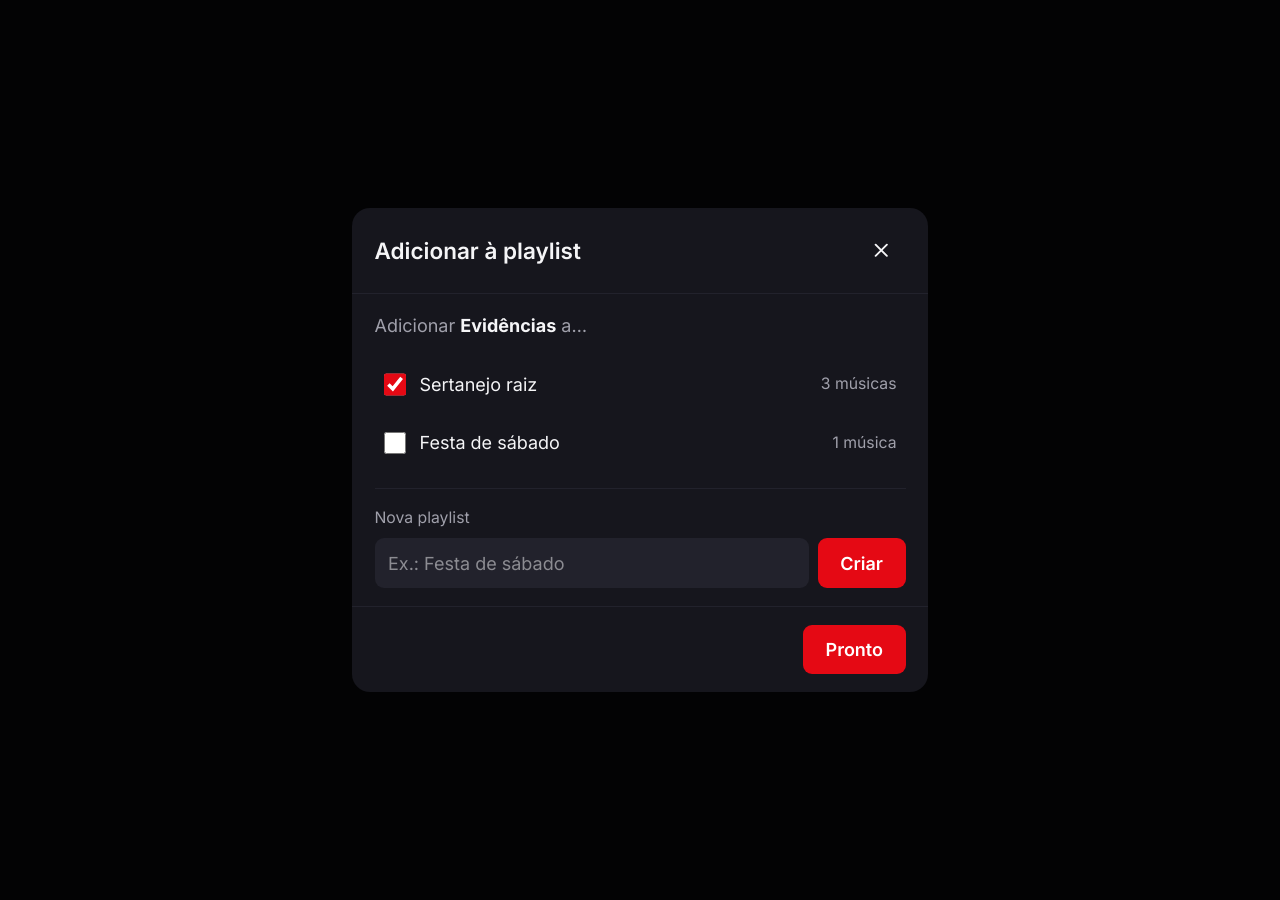
Test: PlaylistPicker › explains when the name is already used and adds nothing
Expected: the checkbox labelled "Sertanejo raiz 3 músicas" is shown, [384,373,406,396]
In the field labelled "Nova playlist": [592, 563] box [374,538,809,588], type "Festa de sábado"
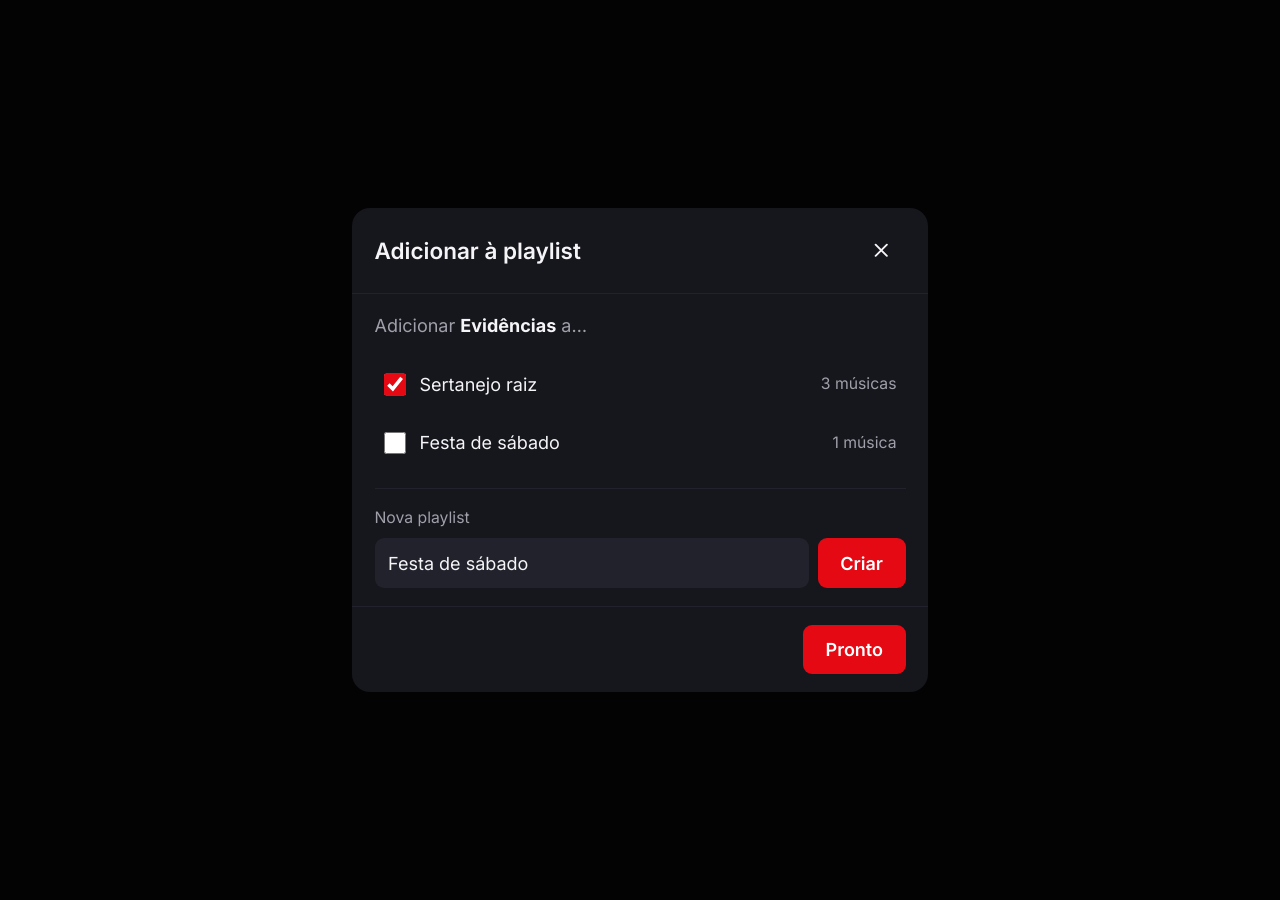
Click the button "Criar": [862, 563] box [818,538,906,588]
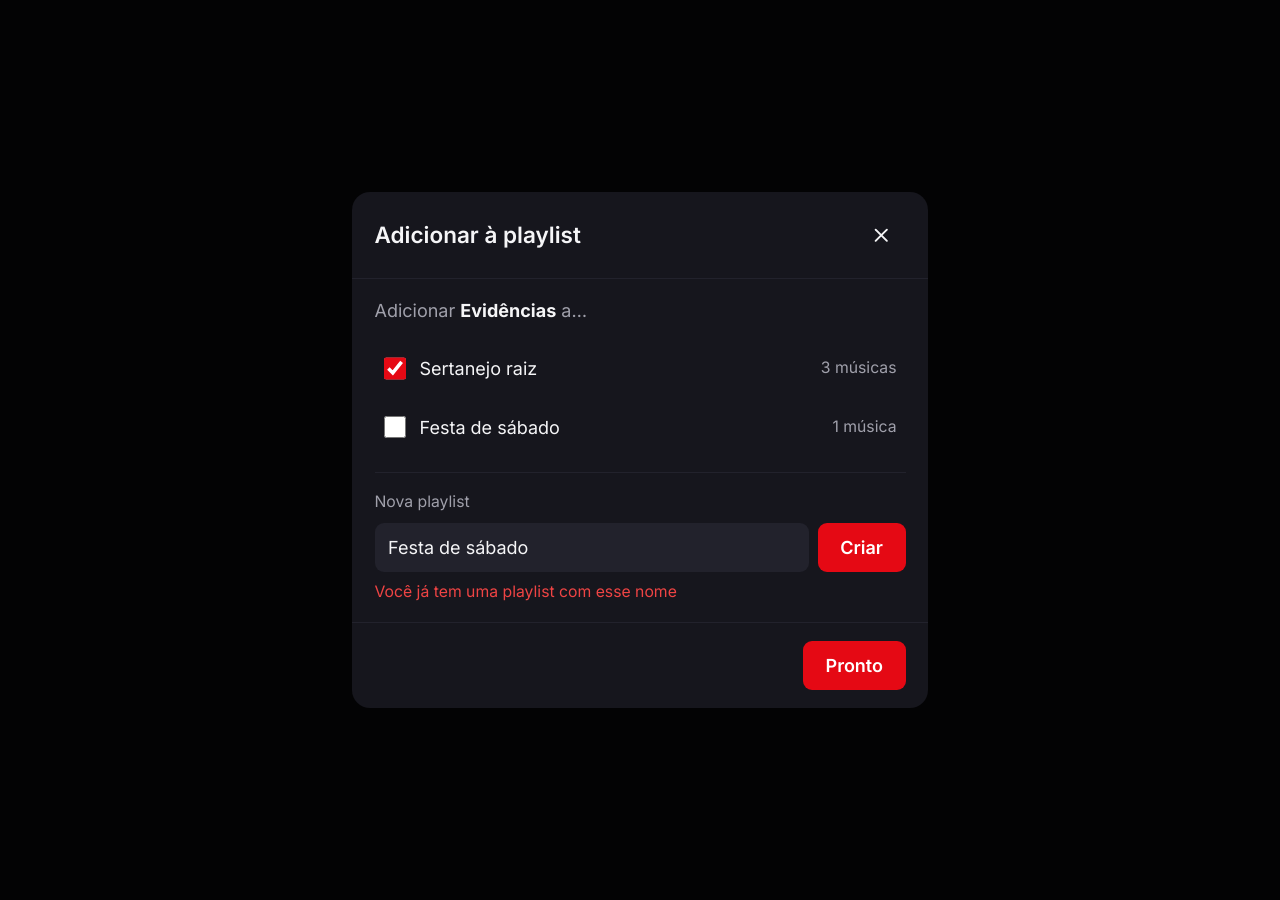
Result: the message reads "Você já tem uma playlist com esse nome" at [374,582,677,601]
